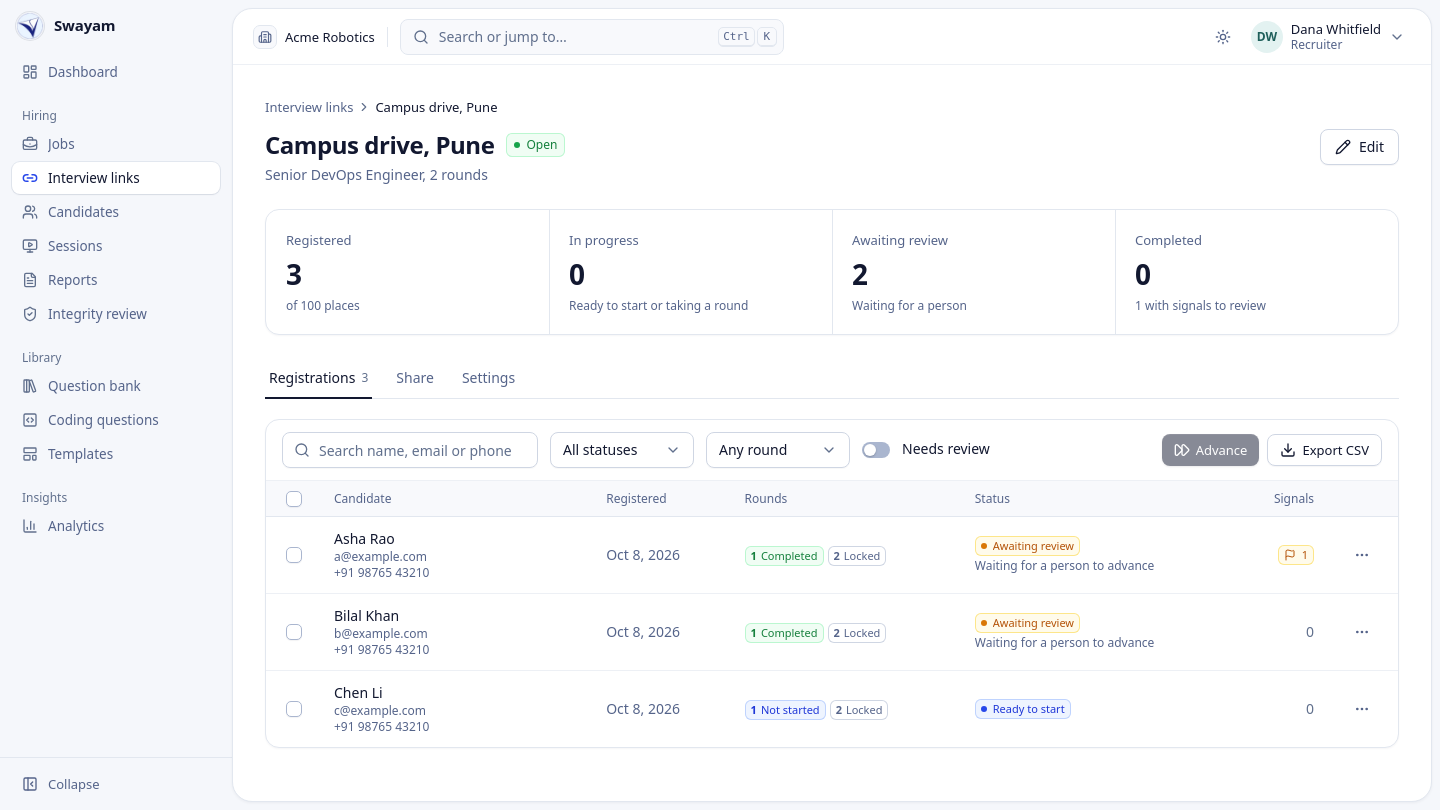
Test: link detail: registrations › lists registrations with round chips, status and signals, and filters by needs review
Expected: the number of rows with test id "registration-row" is 3, x1=266 y1=517 x2=1398 y2=594; x1=266 y1=594 x2=1398 y2=671; x1=266 y1=671 x2=1398 y2=747
Expected: the element with test id "registration-flags" reads "1", x1=1302 y1=546 x2=1308 y2=562
Click the switch with test id "registrations-needs-review" at (876, 450), box x1=862 y1=442 x2=890 y2=458
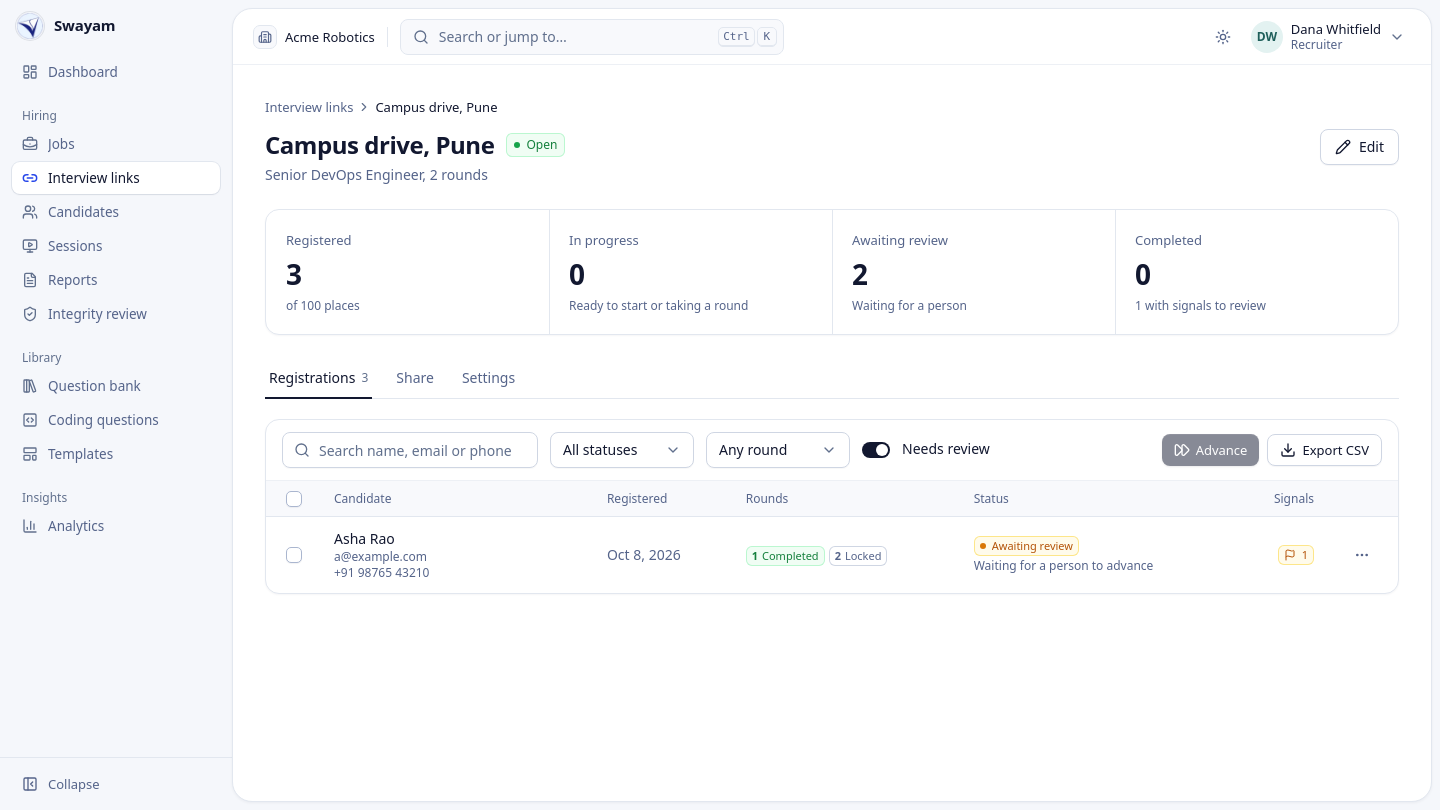
Result: the number of rows with test id "registration-row" is 1 at x1=266 y1=517 x2=1398 y2=593
